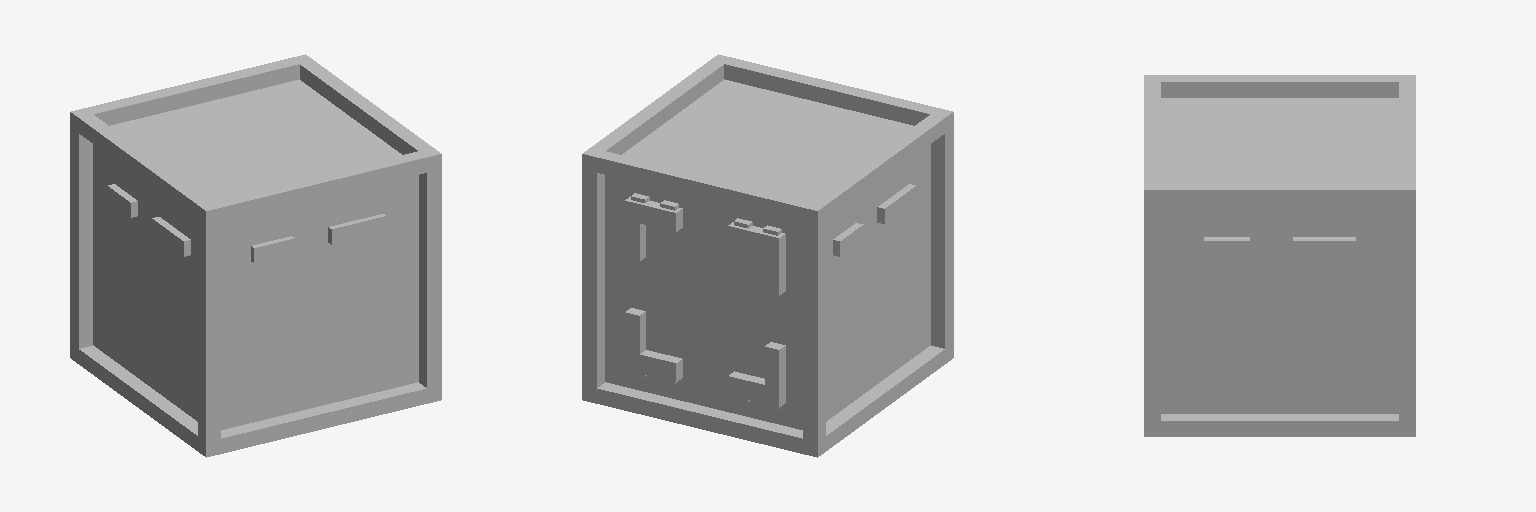
The model's file is loot_fabricator.obj.
The picture shows the model from 3 angles: view 1: azimuth 30°, elevation 25°; view 2: azimuth 150°, elevation 25°; view 3: azimuth 270°, elevation 25°; orthographic projection.
Parts seen in each view (by area): view 1: sides, stripes, top, base; view 2: stripes, front, sides, top, base; view 3: sides, stripes, top, base.
Boxes of the visible parts, x1=… form: sides: x1=93, y1=144, x2=418, y2=429; stripes: x1=70, y1=54, x2=441, y2=457; top: x1=110, y1=79, x2=401, y2=200; base: x1=79, y1=345, x2=426, y2=438; stripes: x1=582, y1=54, x2=953, y2=457; front: x1=605, y1=175, x2=802, y2=429; sides: x1=826, y1=144, x2=930, y2=421; top: x1=622, y1=79, x2=913, y2=200; base: x1=597, y1=345, x2=944, y2=438; sides: x1=1161, y1=206, x2=1398, y2=413; stripes: x1=1144, y1=75, x2=1415, y2=436; top: x1=1161, y1=98, x2=1398, y2=182; base: x1=1161, y1=414, x2=1398, y2=420.
Bounding box in the file's own units: 1 × 1 × 1.